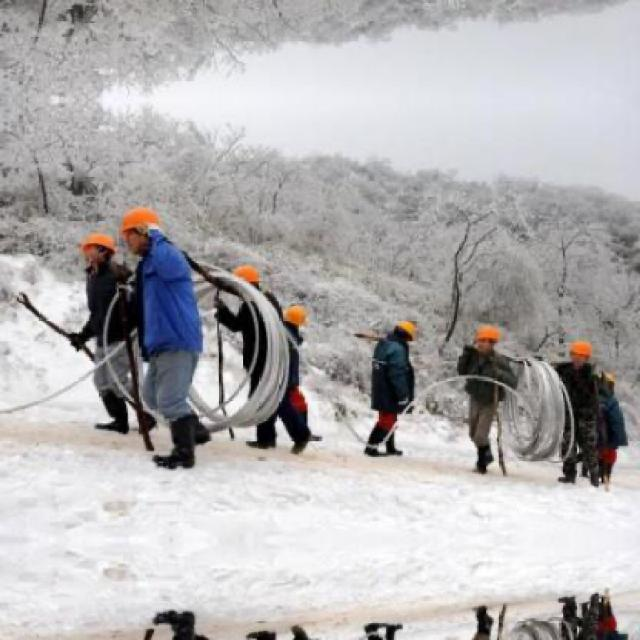helmet: (119, 203, 163, 251), (78, 229, 117, 268), (228, 260, 264, 300), (475, 324, 503, 354), (282, 302, 308, 331), (391, 319, 418, 346), (569, 334, 591, 366)
